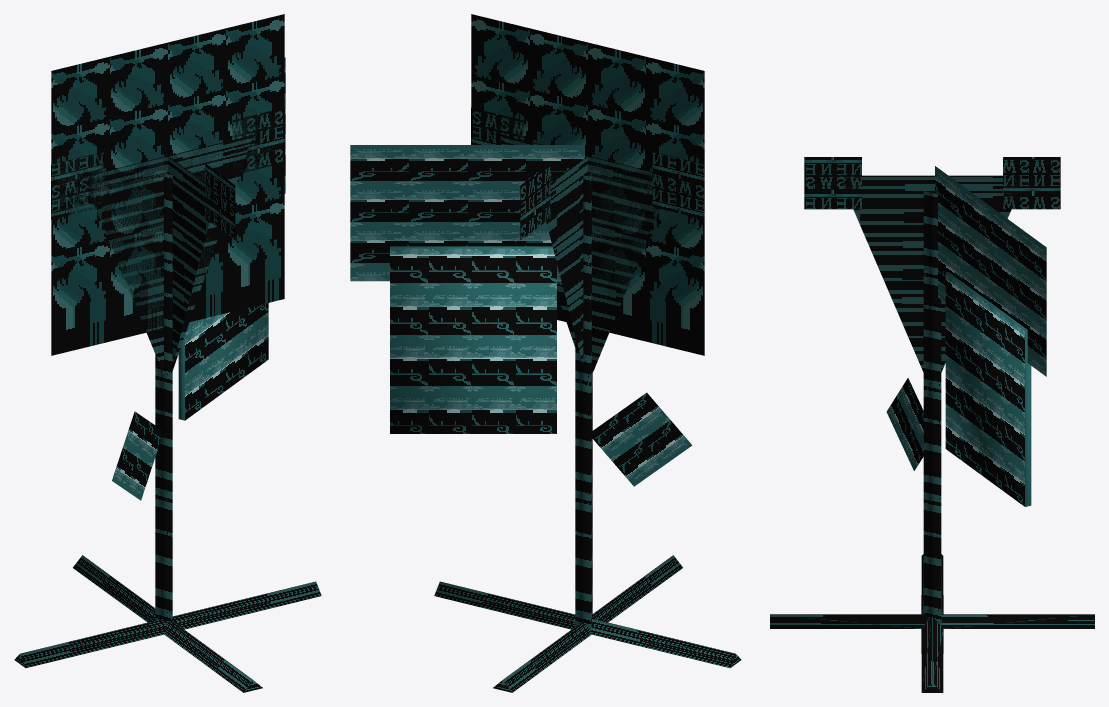
3 views of the same model, side by side, from view 1: azimuth 30°, elevation 25°; view 2: azimuth 150°, elevation 25°; view 3: azimuth 270°, elevation 25° (orthographic). The views are drawn at different scales.
Parts seen in each view (by area): view 1: 3744kg_ga_03; view 2: 3744kg_ga_03; view 3: 3744kg_ga_03.
Boxes of the visible parts, x1,y1,x2,y2 form: 3744kg_ga_03: (14,14,321,692); 3744kg_ga_03: (350,14,741,692); 3744kg_ga_03: (770,157,1094,692).
Bounding box in the file's own units: 0.9194 × 1.58 × 0.8359.
3 materials, 3 textured.
